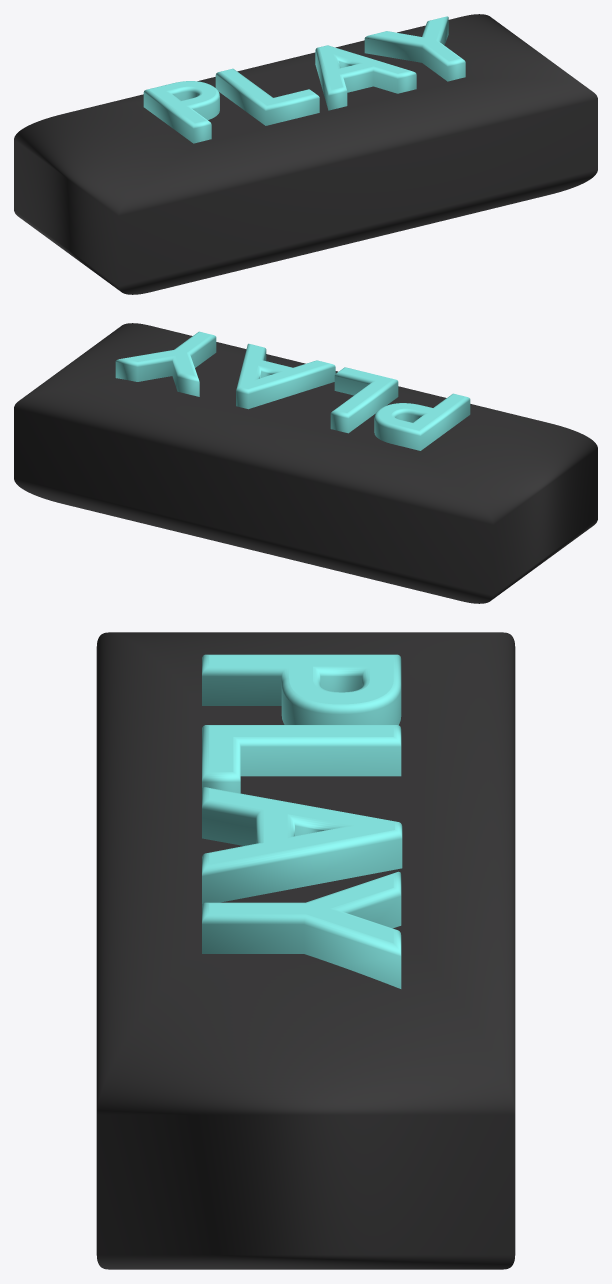
The model's file is btn_1.glb.
3 renders of one model, top to bottom at view 1: azimuth 30°, elevation 25°; view 2: azimuth 150°, elevation 25°; view 3: azimuth 270°, elevation 25°, orthographic. The views are drawn at different scales.
Parts seen in each view (by area): view 1: Cube, Text; view 2: Cube, Text; view 3: Cube, Text.
Boxes of the visible parts, x1,y1,x2,y2 form: Cube: (14,14,597,294); Text: (143,16,465,143); Cube: (14,323,597,603); Text: (115,331,470,450); Cube: (96,632,515,1269); Text: (202,654,402,988).
Bounding box in the file's own units: 4.42 × 1.28 × 1.67.
